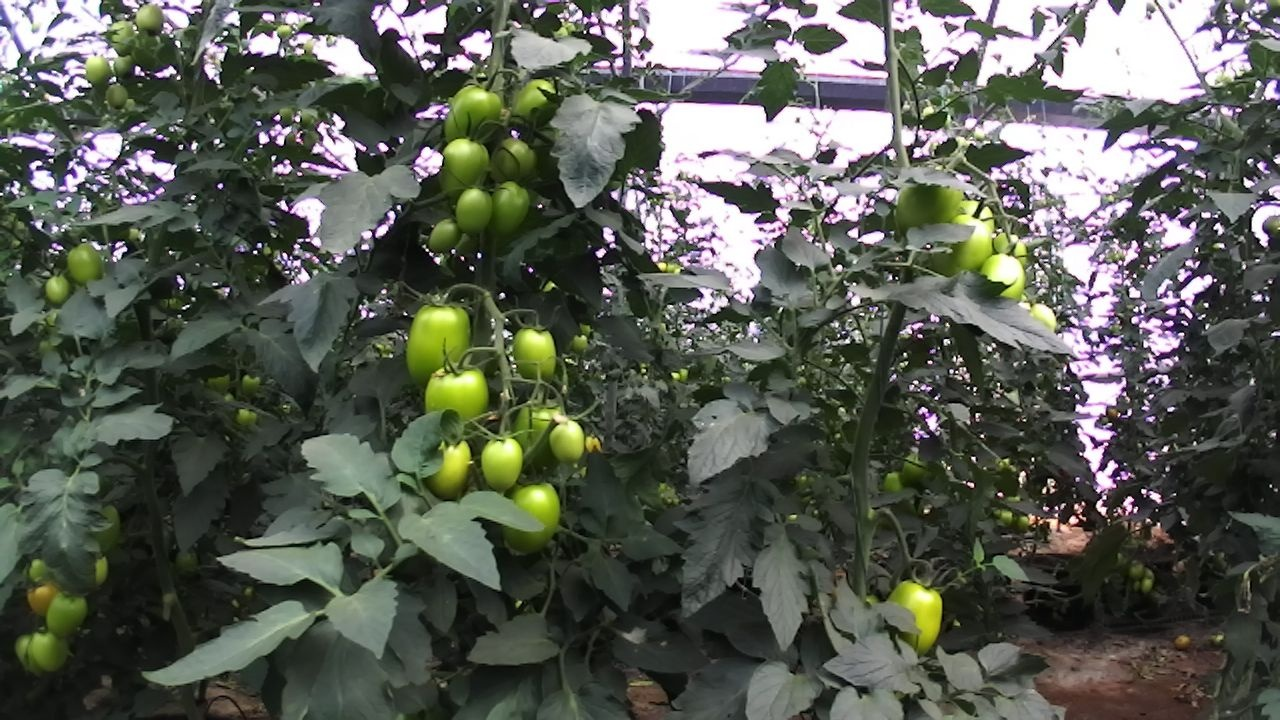tomato: (395, 288, 492, 392), (411, 352, 508, 452), (491, 463, 579, 569), (873, 559, 959, 667), (884, 158, 973, 259), (429, 67, 518, 161), (505, 392, 583, 487), (500, 312, 574, 400), (932, 203, 1008, 280), (429, 129, 499, 208), (415, 423, 485, 502), (972, 237, 1039, 319), (479, 123, 552, 198), (502, 63, 569, 142), (478, 169, 538, 248), (472, 428, 531, 500), (55, 235, 116, 297), (448, 178, 501, 240), (41, 584, 95, 642), (27, 623, 79, 682), (542, 413, 594, 472), (22, 575, 74, 629), (421, 209, 471, 263), (986, 225, 1037, 271), (38, 266, 81, 314), (76, 48, 118, 93), (128, 0, 170, 43), (102, 14, 141, 59), (106, 50, 143, 84), (101, 78, 135, 115), (227, 400, 265, 433), (234, 367, 269, 402)
